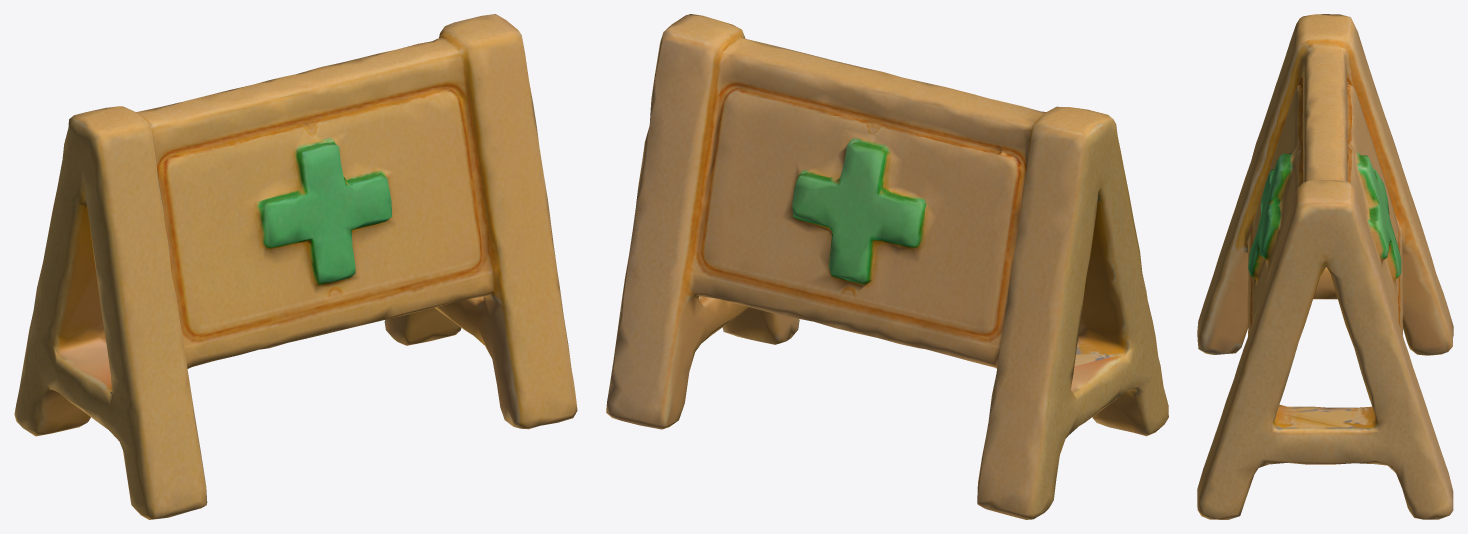
Rendered from Prop_SafetyBarricade.glb.
3 renders of one model, left to right at view 1: azimuth 30°, elevation 25°; view 2: azimuth 150°, elevation 25°; view 3: azimuth 270°, elevation 25°, orthographic. The views are drawn at different scales.
Visible parts, largest first — view 1: input; view 2: input; view 3: input.
Boxes of the visible parts, x1,y1,x2,y2 form: input: [14, 14, 577, 519]; input: [606, 14, 1168, 519]; input: [1197, 14, 1453, 519].
Bounding box in the file's own units: 1 × 0.7812 × 0.5673.
1 material, 1 textured.
